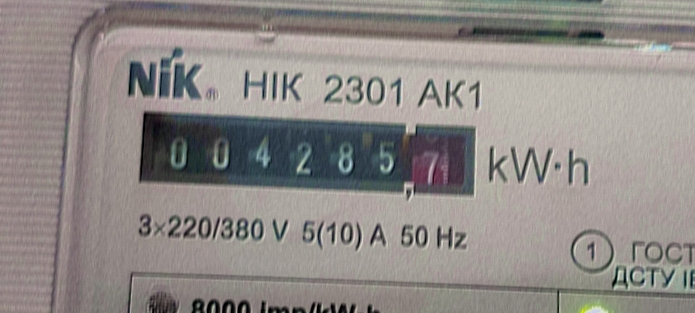0: (207, 132, 231, 170), (165, 132, 188, 169)
2: (291, 138, 313, 175)
4: (252, 132, 271, 167)
5: (372, 137, 396, 174)
7: (417, 147, 439, 184)
8: (331, 137, 355, 175)
screen: (121, 93, 492, 215)
